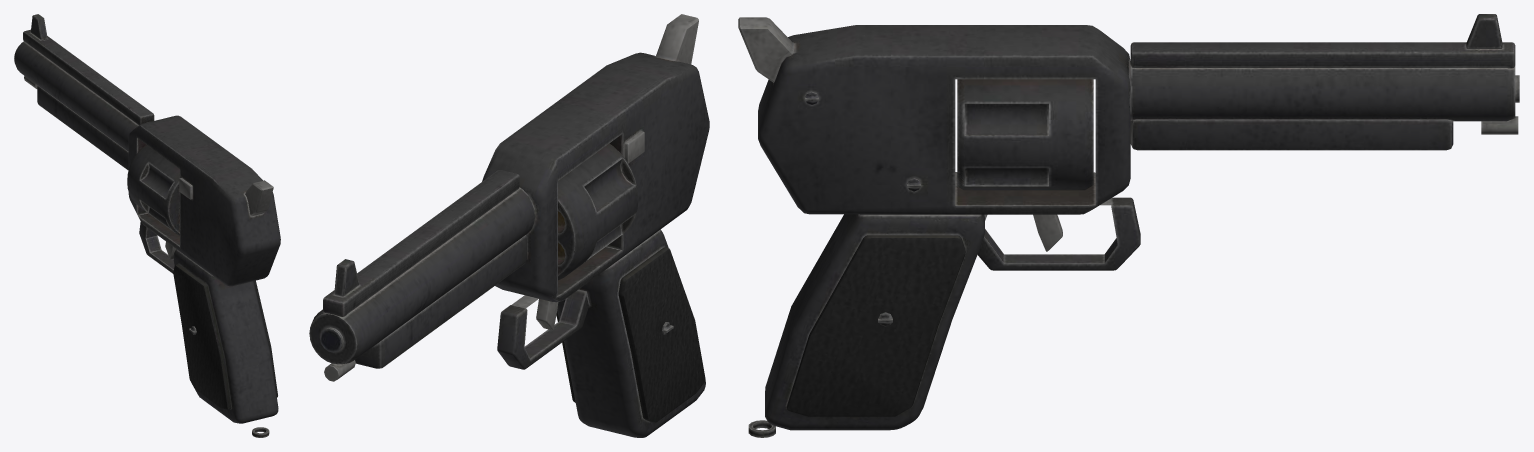
The model's file is explorer_heavy_round_pistol.glb.
3 views of the same model, side by side, from view 1: azimuth 30°, elevation 25°; view 2: azimuth 150°, elevation 25°; view 3: azimuth 270°, elevation 25° (orthographic). The views are drawn at different scales.
Visible parts, largest first — view 1: explorer_heavy_round_pistol; view 2: explorer_heavy_round_pistol; view 3: explorer_heavy_round_pistol.
Boxes of the visible parts, <box> form: explorer_heavy_round_pistol: <box>14,14,280,437</box>; explorer_heavy_round_pistol: <box>309,14,709,437</box>; explorer_heavy_round_pistol: <box>738,14,1519,437</box>.
Size of the model in its own units: 0.0601 by 0.212 by 0.3609.
Materials: 1 (1 with a texture image).
